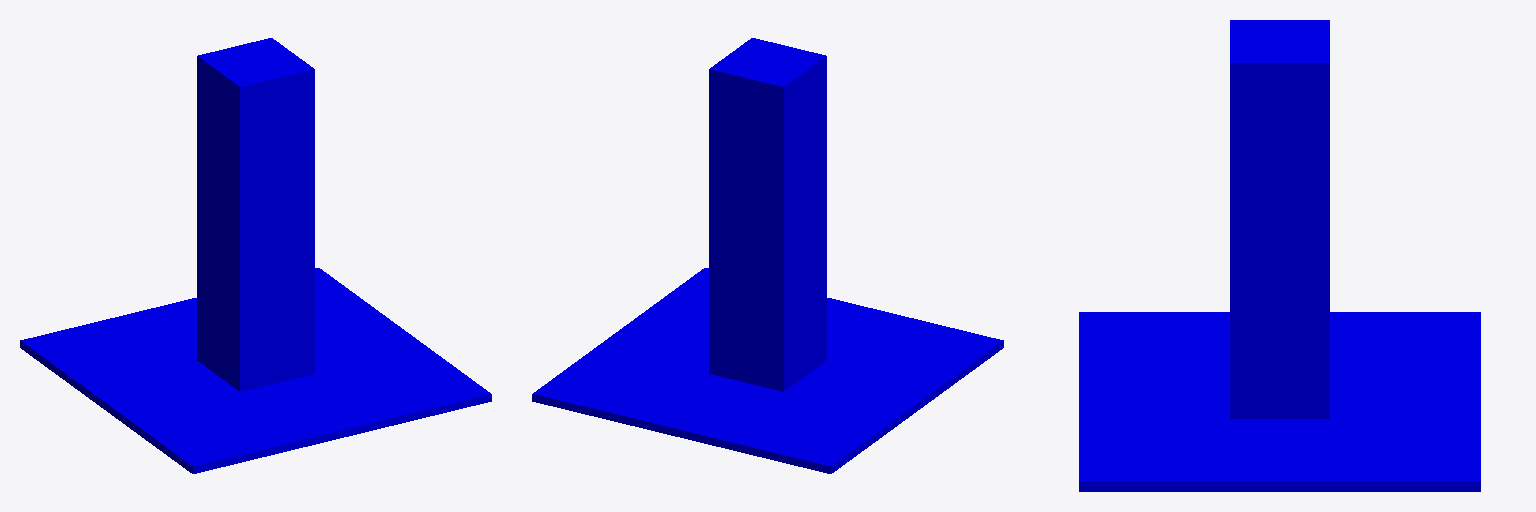
URDF robot description (pole.urdf):
<?xml version="1.0" ?>
<robot name="pole.urdf">

  <link name="base">

    <visual>
      <origin rpy="0 0 0" xyz="0 0 0.00125"/>
      <geometry>
        <box size="0.1 0.1 0.0025"/>
      </geometry>
      <material name="blue">
       <color rgba="0.0 0.0 1.0 1.0"/>
     </material>
    </visual>

    <inertial>
       <mass value="0.01"/>
       <origin xyz="0 0 0.00125"/>
       <inertia ixx="1.0" ixy="0" ixz="0" iyy="1.0" iyz="0" izz="1.0"/>
    </inertial>

    <collision>
      <origin rpy="0 0 0" xyz="0 0 0.00125"/>
      <geometry>
				<box size="0.1 0.1 0.0025"/>
      </geometry>
    </collision>

  </link>

  <link name="pole">

    <visual>
      <geometry>
        <box size="0.025 0.025 0.1"/>
      </geometry>
      <origin rpy="0 0 0" xyz="0 0 0.05"/>
      <material name="blue">
       <color rgba="0.0 0.0 1.0 1.0"/>
     </material>
    </visual>

    <inertial>
      <origin xyz="0 0 0.05"/>
       <mass value="0.1"/>
       <inertia ixx="1.0" ixy="0" ixz="0" iyy="1.0" iyz="0" izz="1.0"/>
    </inertial>

    <collision>
      <origin rpy="0 0 0" xyz="0 0 0.05"/>
      <geometry>
				<box size="0.025 0.025 0.1"/>
      </geometry>
    </collision>

  </link>

  <joint name="base_to_pole" type="fixed">
    <axis xyz="1 0 0"/>
    <origin xyz="0.0 0.0 0.0"/>
    <parent link="base"/>
    <child link="pole"/>
  </joint>

</robot>

--- Facts derived from the render (not from the file) ---
3 views of the same robot in one strip: view 1: azimuth 30°, elevation 25°; view 2: azimuth 150°, elevation 25°; view 3: azimuth 270°, elevation 25° (orthographic).
Robot: pole.urdf — 2 links, 1 joints (1 fixed); root link base; default pose: all joints at 0.
Links seen in each view (by area): view 1: base, pole; view 2: base, pole; view 3: base, pole.
Link boxes in pixels (left/top/right/bottom): base: left=20, top=268, right=491, bottom=473; pole: left=197, top=38, right=314, bottom=391; base: left=532, top=268, right=1003, bottom=473; pole: left=709, top=38, right=826, bottom=391; base: left=1079, top=312, right=1480, bottom=491; pole: left=1230, top=20, right=1329, bottom=418.
Size in the robot's own frame: 0.1 by 0.1 by 0.1 metres.
Geometry: primitives only (box / cylinder / sphere), no mesh files.